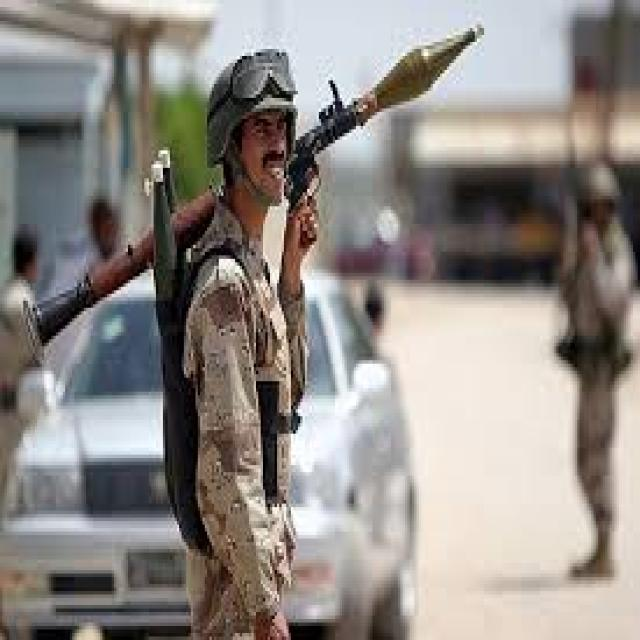bazooka: (17, 21, 489, 368)
